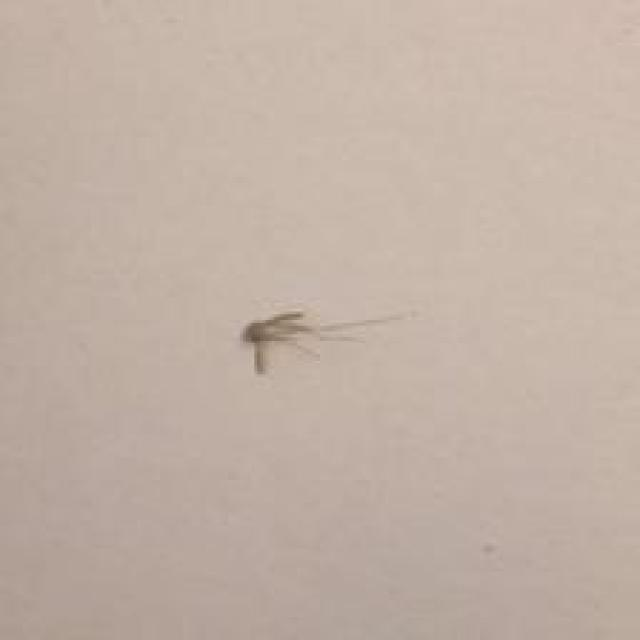Culex: (241, 307, 413, 376)
